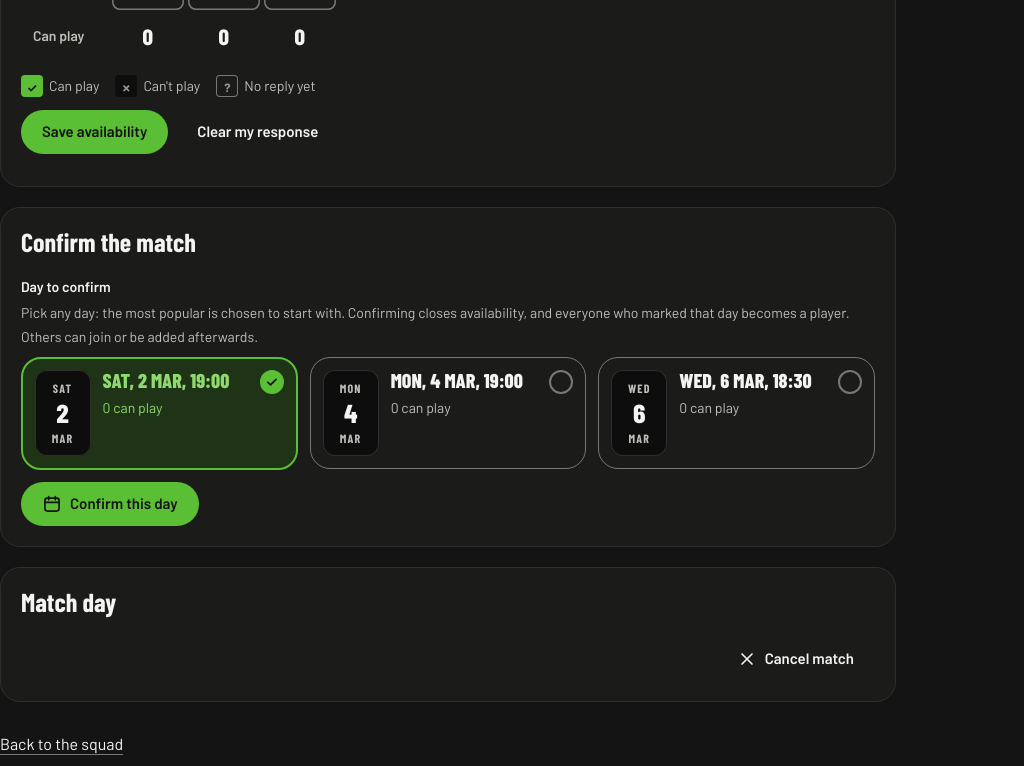
Scenario: MatchScreen while gathering availability › lets an organiser confirm even when nobody has marked any day
(page scrolled)
What coordinates should you click on to do the following:
click the button "Confirm this day"
I would click on:
 (110, 504)
Its box is [21,482,198,526].
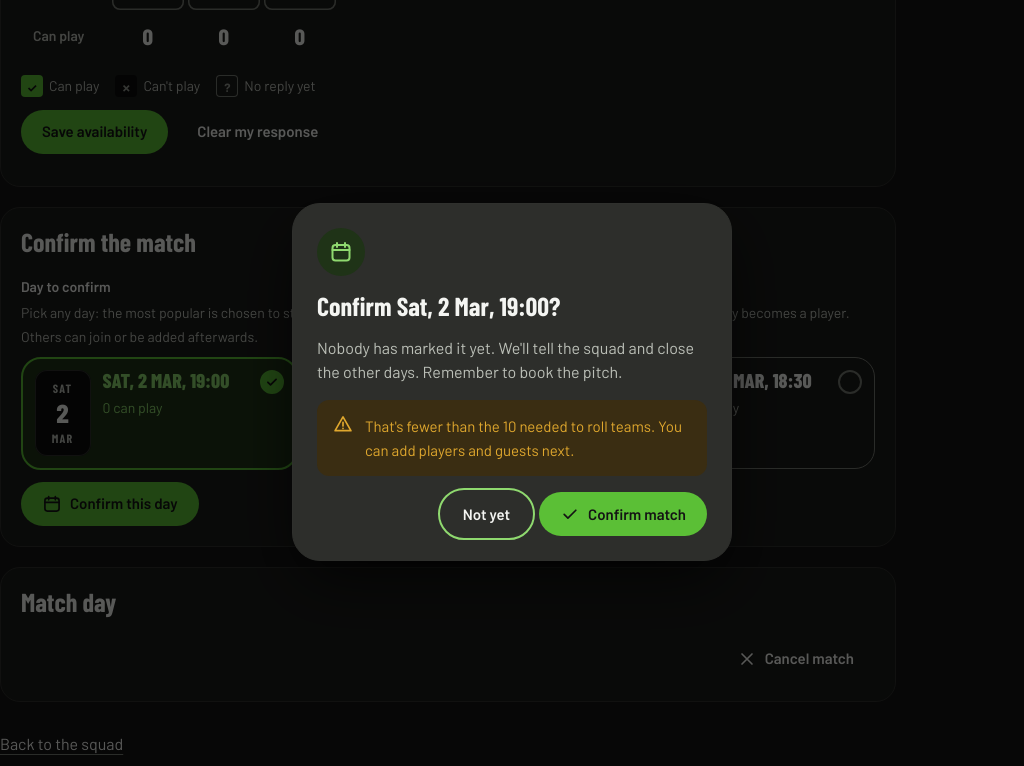
expect the button "Not yet" is shown: met, box [442,492,531,536]
expect the button "Confirm match" is shown: met, box [539,492,707,536]
